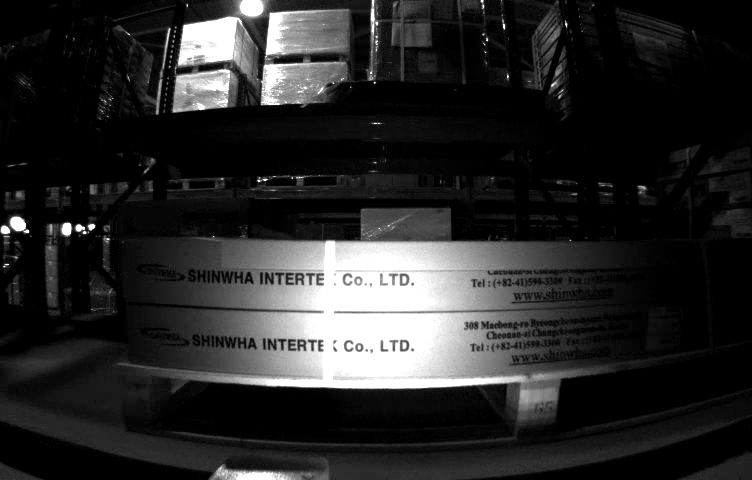True Barcode: (648, 306, 687, 349)
